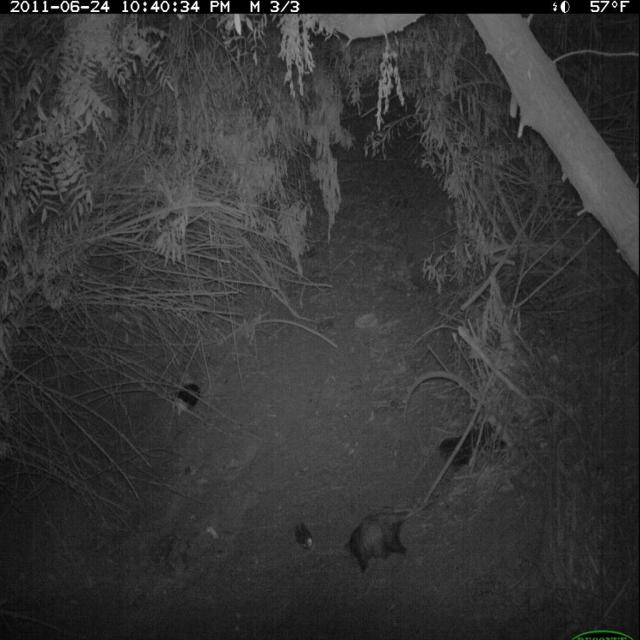opossum: (341, 492, 444, 578)
